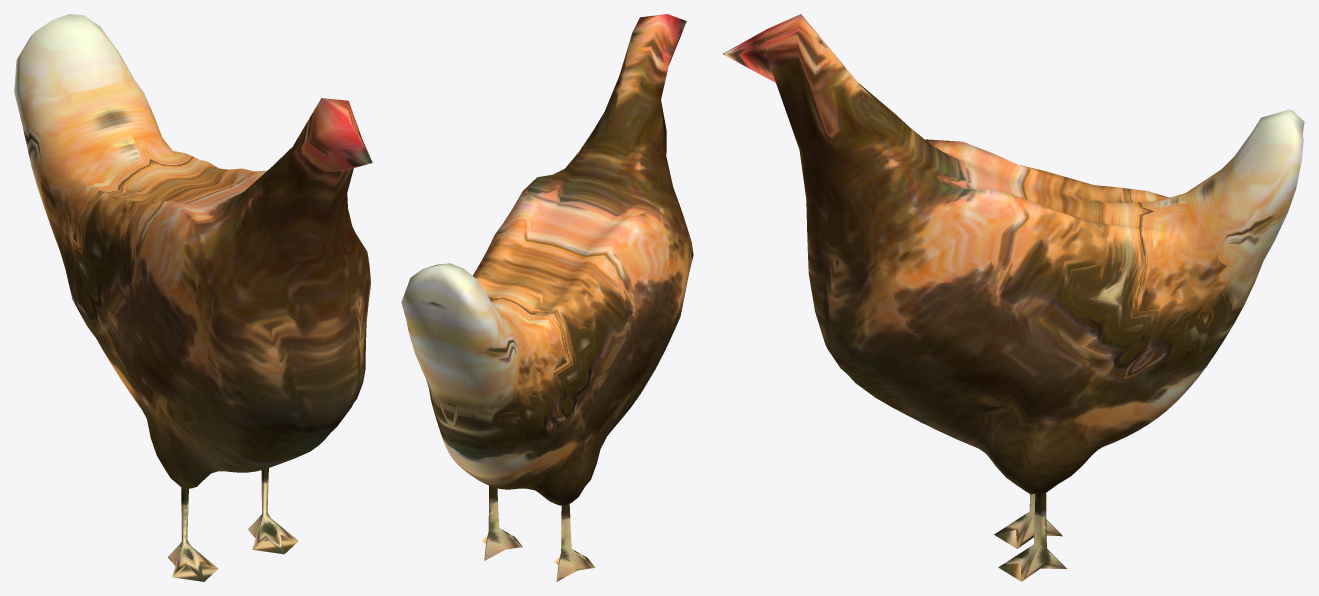
The model's file is simpleRedChicken.FBX.
3 renders of one model, left to right at view 1: azimuth 30°, elevation 25°; view 2: azimuth 150°, elevation 25°; view 3: azimuth 270°, elevation 25°, orthographic. The views are drawn at different scales.
Parts seen in each view (by area): view 1: objchickenobject_0; view 2: objchickenobject_0; view 3: objchickenobject_0.
Boxes of the visible parts, x1,y1,x2,y2 form: objchickenobject_0: [14, 14, 372, 581]; objchickenobject_0: [401, 14, 693, 581]; objchickenobject_0: [723, 14, 1304, 581].
Bounding box in the file's own units: 185 × 518 × 515.
Materials: 1 (1 with a texture image).
